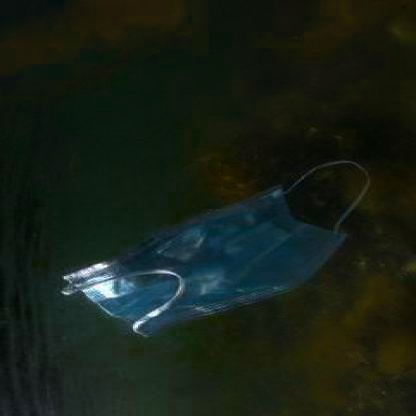Mask: (55, 160, 380, 340)
